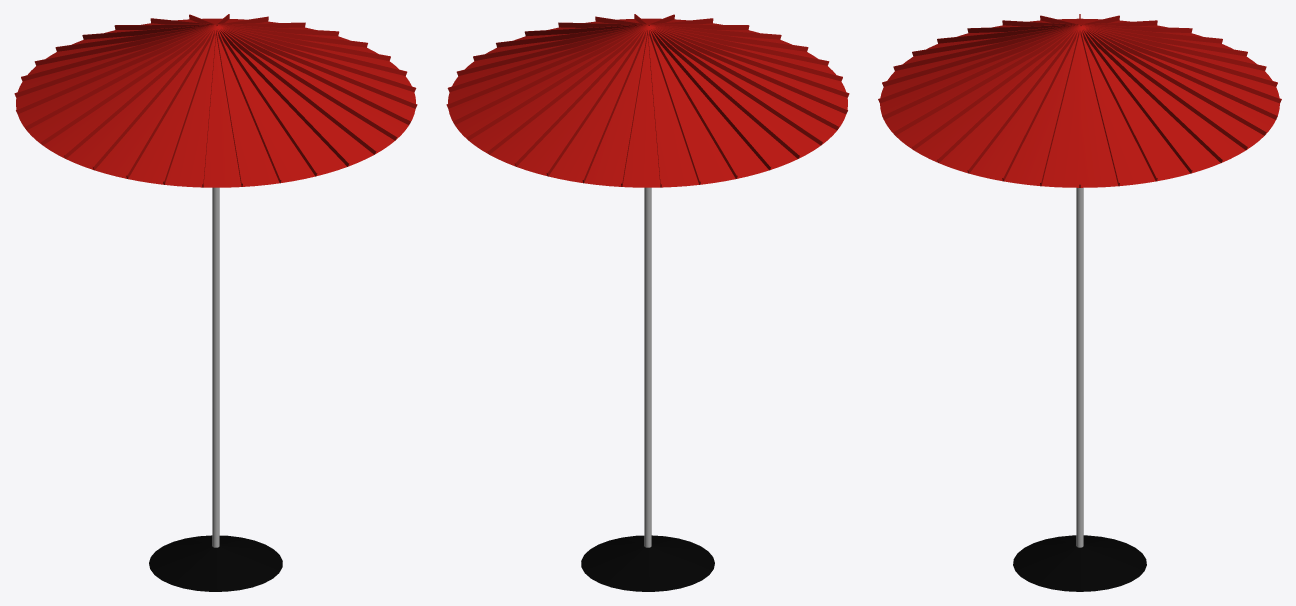
Rendered from 野点傘と台.obj.
3 renders of one model, left to right at view 1: azimuth 30°, elevation 25°; view 2: azimuth 150°, elevation 25°; view 3: azimuth 270°, elevation 25°, orthographic.
Visible parts, largest first — view 1: ソリッド1; view 2: ソリッド1; view 3: ソリッド1.
Part boxes in pixels (x1=…): ソリッド1: x1=14, y1=14, x2=417, y2=591; ソリッド1: x1=446, y1=14, x2=849, y2=591; ソリッド1: x1=878, y1=14, x2=1281, y2=591.
Size of the model in its own units: 1685 by 2479 by 1685.
